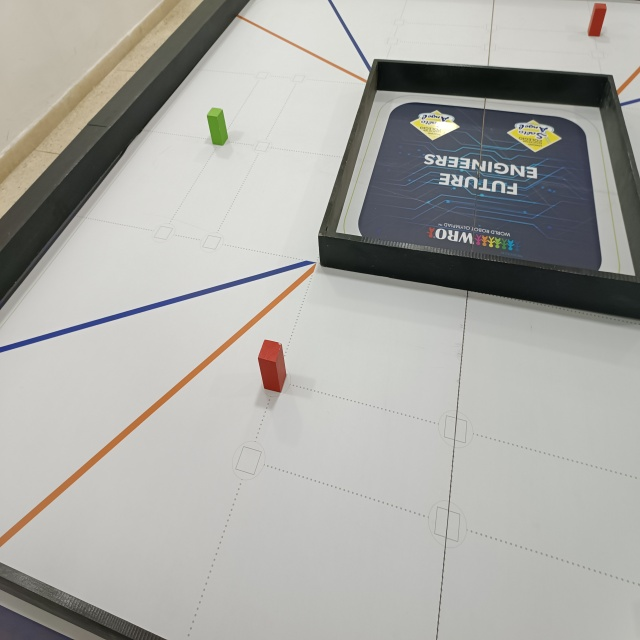blue line: (0, 257, 315, 355), (322, 0, 371, 70), (617, 94, 640, 111)
green rectangular prism: (205, 106, 232, 149)
orange line: (0, 266, 318, 553), (233, 13, 371, 83), (609, 64, 640, 95)
red rectangular prism: (257, 342, 287, 396), (588, 0, 606, 39)
